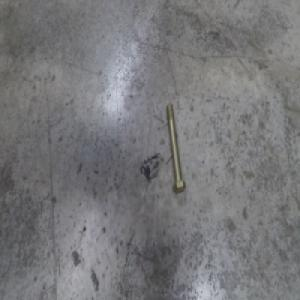Bolt: (165, 102, 186, 193)
